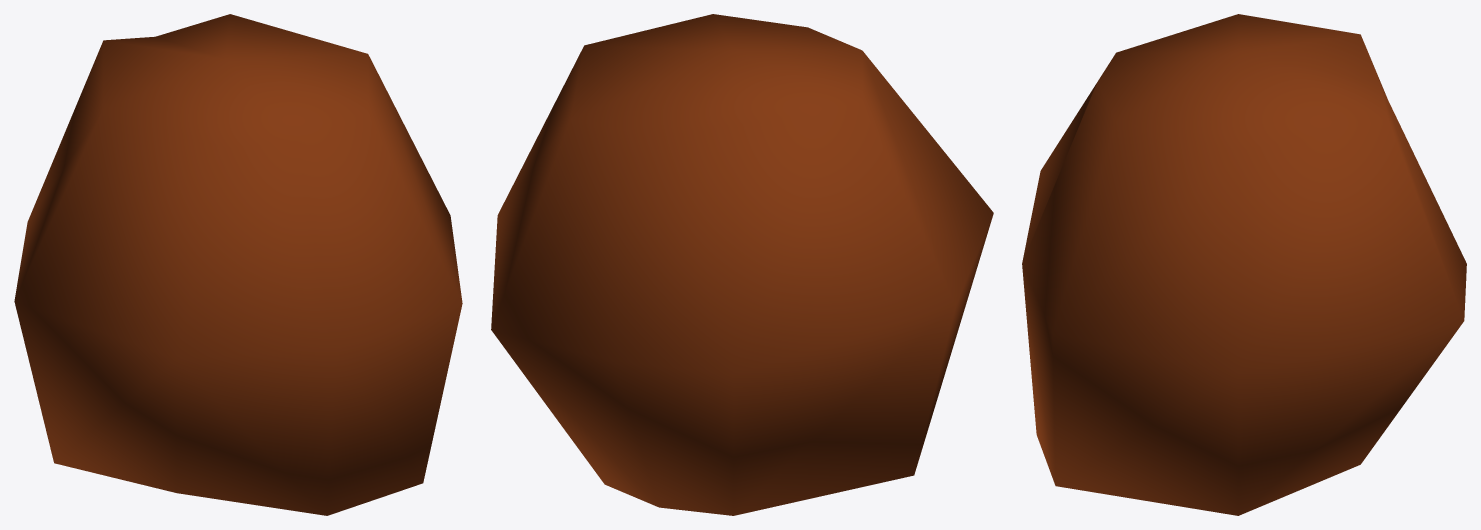
File: FoodPiece_HotDog.fbx
3 views of the same model, side by side, from view 1: azimuth 30°, elevation 25°; view 2: azimuth 150°, elevation 25°; view 3: azimuth 270°, elevation 25° (orthographic). The views are drawn at different scales.
Visible parts, largest first — view 1: Sphere.005; view 2: Sphere.005; view 3: Sphere.005.
Part boxes in pixels (x1,y1,x2,y2): Sphere.005: [14, 14, 462, 515]; Sphere.005: [491, 14, 993, 515]; Sphere.005: [1022, 14, 1466, 515].
Size of the model in its own units: 4.19 by 3.61 by 3.71.
